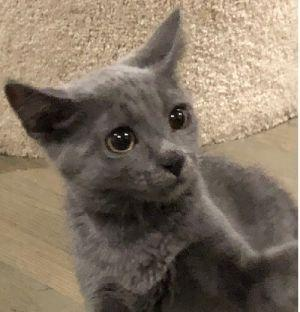rblue: (1, 1, 222, 226)
